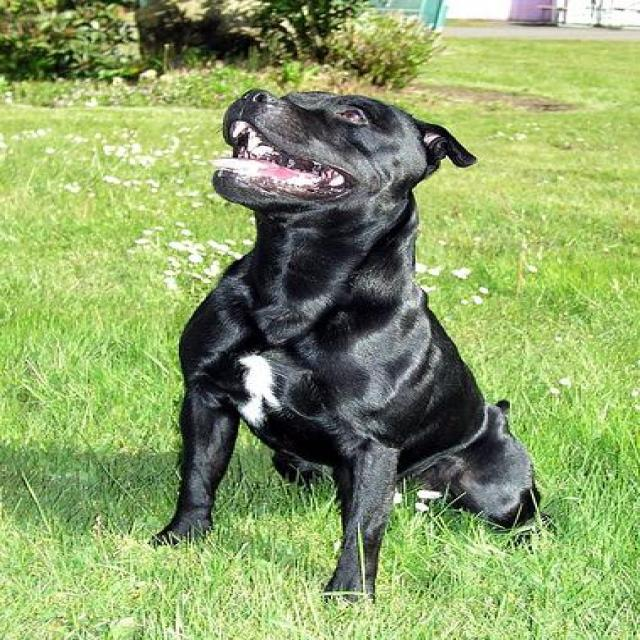staffordshire_bullterrier: (135, 84, 562, 610)
